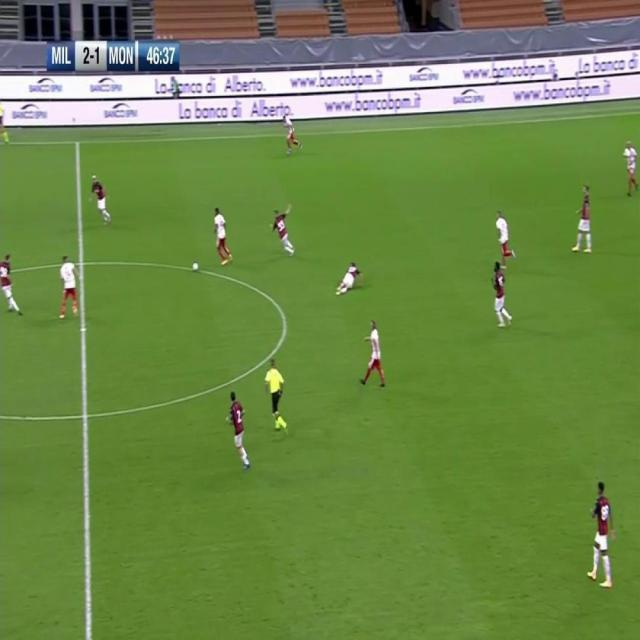ball: (192, 260, 200, 273)
player: (587, 478, 617, 591), (226, 390, 253, 470), (361, 318, 387, 388), (57, 253, 80, 323), (572, 182, 594, 255), (491, 261, 513, 329), (271, 200, 296, 258), (1, 253, 24, 315), (213, 205, 234, 266), (89, 172, 112, 225), (494, 208, 517, 261), (336, 259, 362, 298), (282, 105, 302, 155), (622, 137, 638, 198)
referee: (265, 359, 291, 435)
